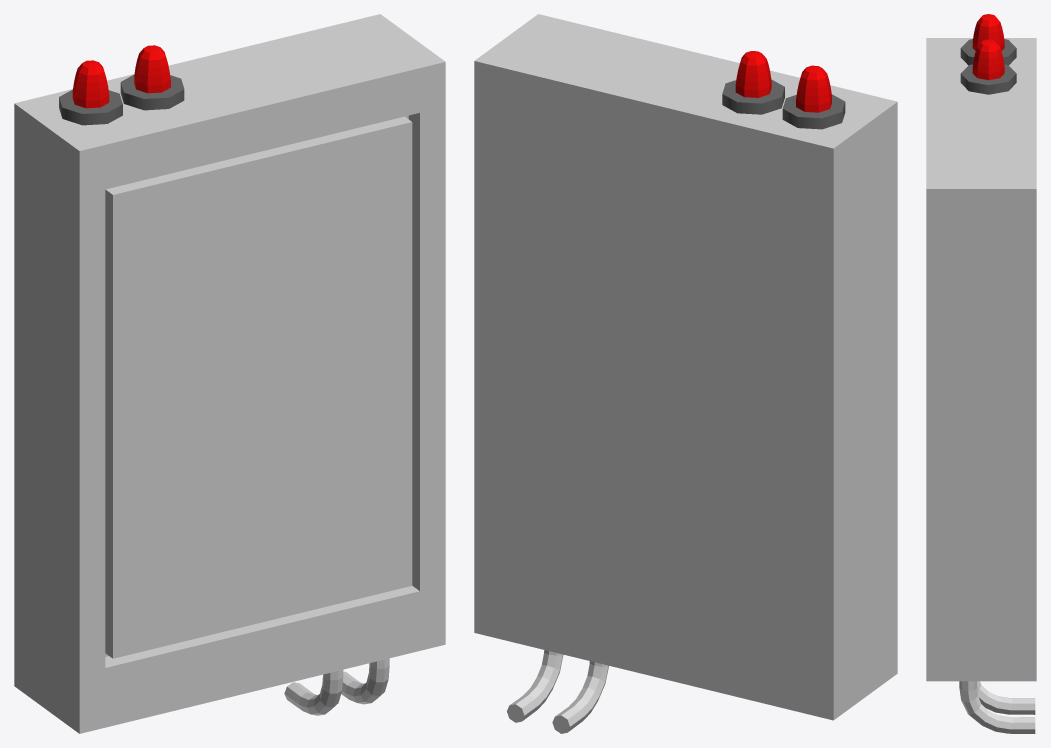
Rendered from Minigenerador.fbx.
The picture shows the model from 3 angles, left to right: view 1: azimuth 30°, elevation 25°; view 2: azimuth 150°, elevation 25°; view 3: azimuth 270°, elevation 25°; orthographic projection. The views are drawn at different scales.
Parts seen in each view (by area): view 1: Cajagenerador, LuzVerde, LuzRoja, Cylinder002, Cylinder001; view 2: Cajagenerador, LuzRoja, LuzVerde, Cylinder002, Cylinder001; view 3: Cajagenerador, LuzVerde, Cylinder001, LuzRoja, Cylinder002.
Boxes of the visible parts, <box> form: Cajagenerador: <box>14,14,445,733</box>; LuzVerde: <box>120,45,184,110</box>; LuzRoja: <box>59,60,122,125</box>; Cylinder002: <box>284,670,343,715</box>; Cylinder001: <box>341,658,389,704</box>; Cajagenerador: <box>474,14,897,720</box>; LuzRoja: <box>782,65,845,129</box>; LuzVerde: <box>722,51,784,114</box>; Cylinder002: <box>552,661,608,733</box>; Cylinder001: <box>507,650,563,722</box>; Cajagenerador: <box>926,38,1036,681</box>; LuzVerde: <box>960,39,1016,94</box>; Cylinder001: <box>959,681,1035,733</box>; LuzRoja: <box>960,14,1016,65</box>; Cylinder002: <box>977,681,1035,714</box>.
Bounding box in the file's own units: 19.2 × 35.8 × 5.93.
